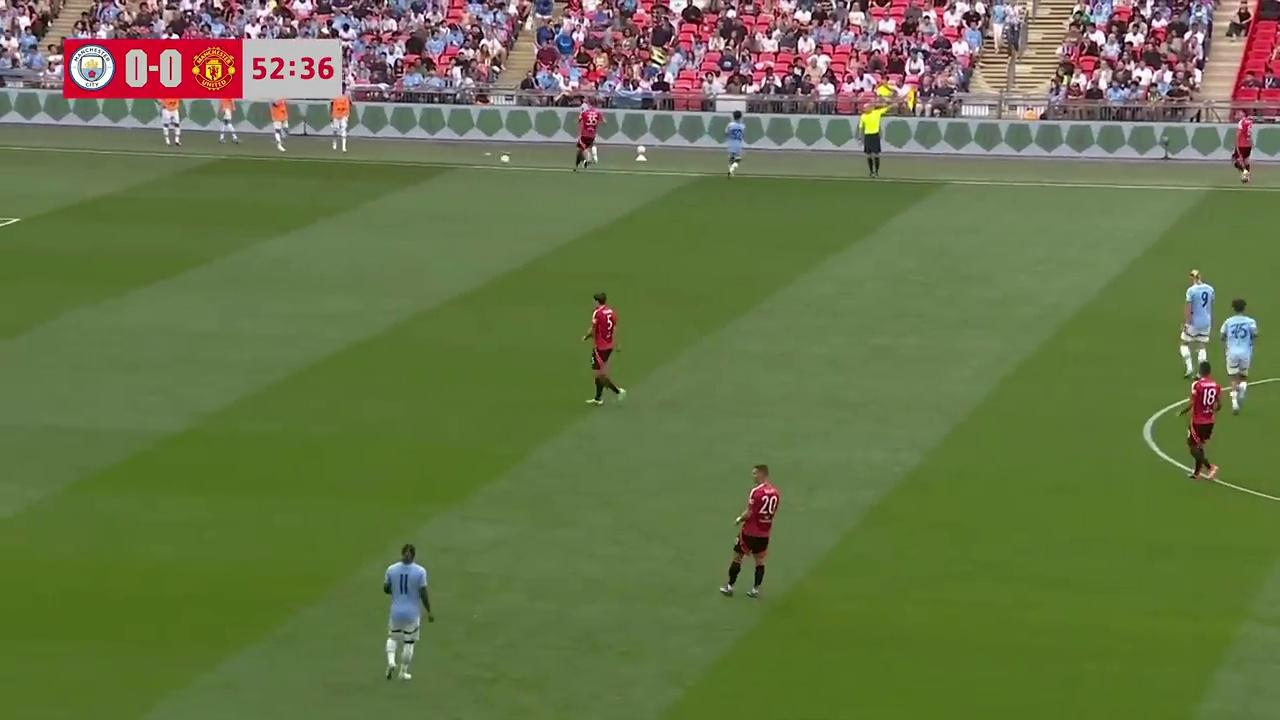player: (720, 465, 780, 599), (381, 543, 434, 682), (1175, 367, 1223, 481), (580, 292, 627, 407), (1220, 300, 1258, 411), (1179, 269, 1214, 375), (571, 98, 602, 173), (724, 118, 745, 178)
referee: (857, 97, 917, 181)
